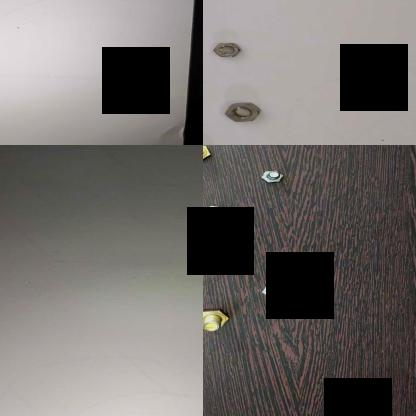Bolts: (255, 163, 289, 185), (203, 307, 233, 330), (256, 282, 286, 298), (203, 145, 222, 162), (207, 203, 223, 219)
NUTS: (217, 97, 263, 127), (204, 38, 245, 60)
